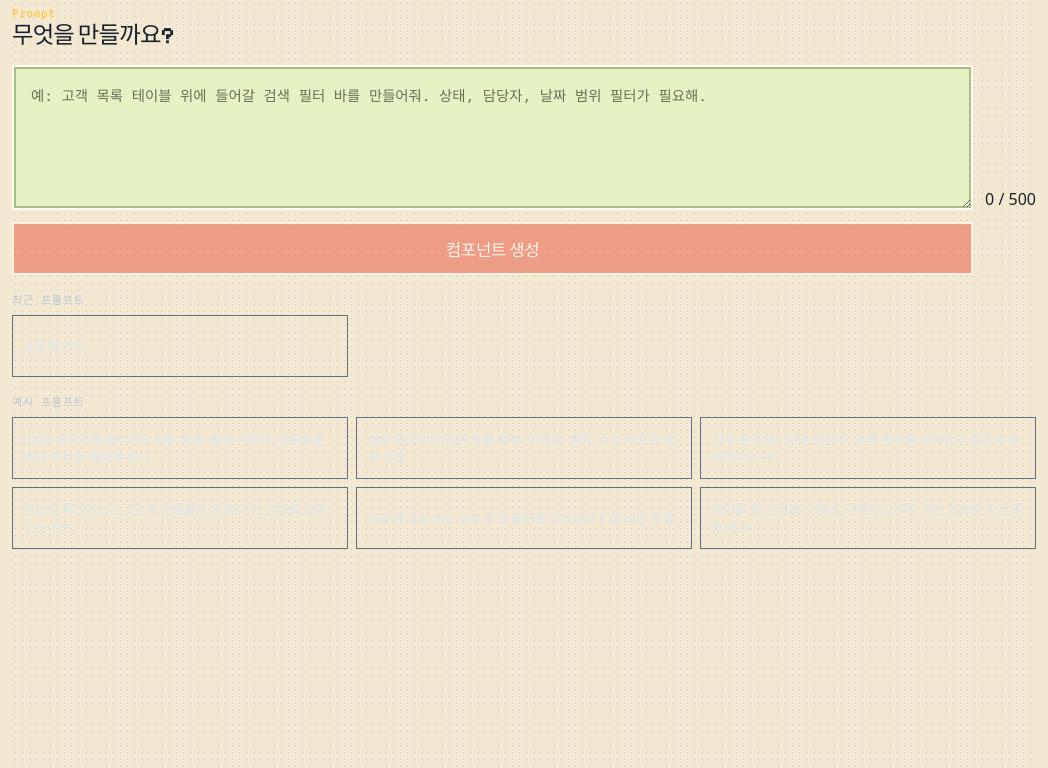
PromptInput › 저장된 프롬프트 히스토리를 표시하고 선택할 수 있다
This screenshot has width=1048, height=768.
Click the button "프로필 카드".
click(55, 346)  # box [12, 315, 348, 377]
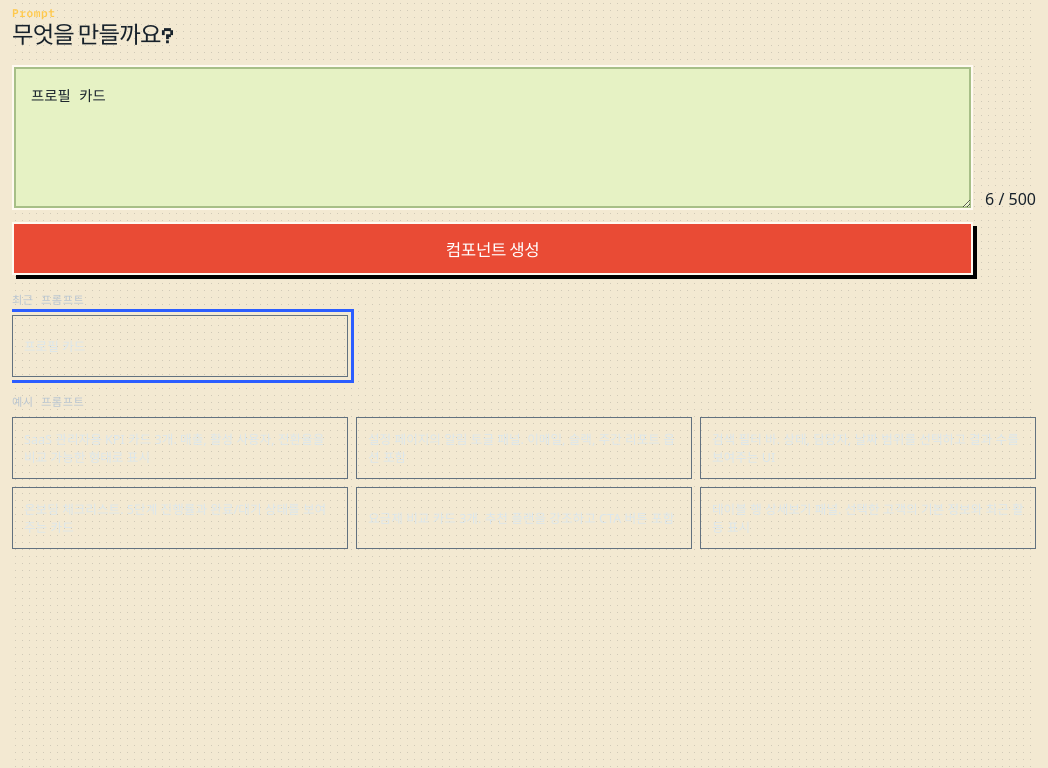
Result: the text box holds "프로필 카드" at [12, 65, 973, 210]
